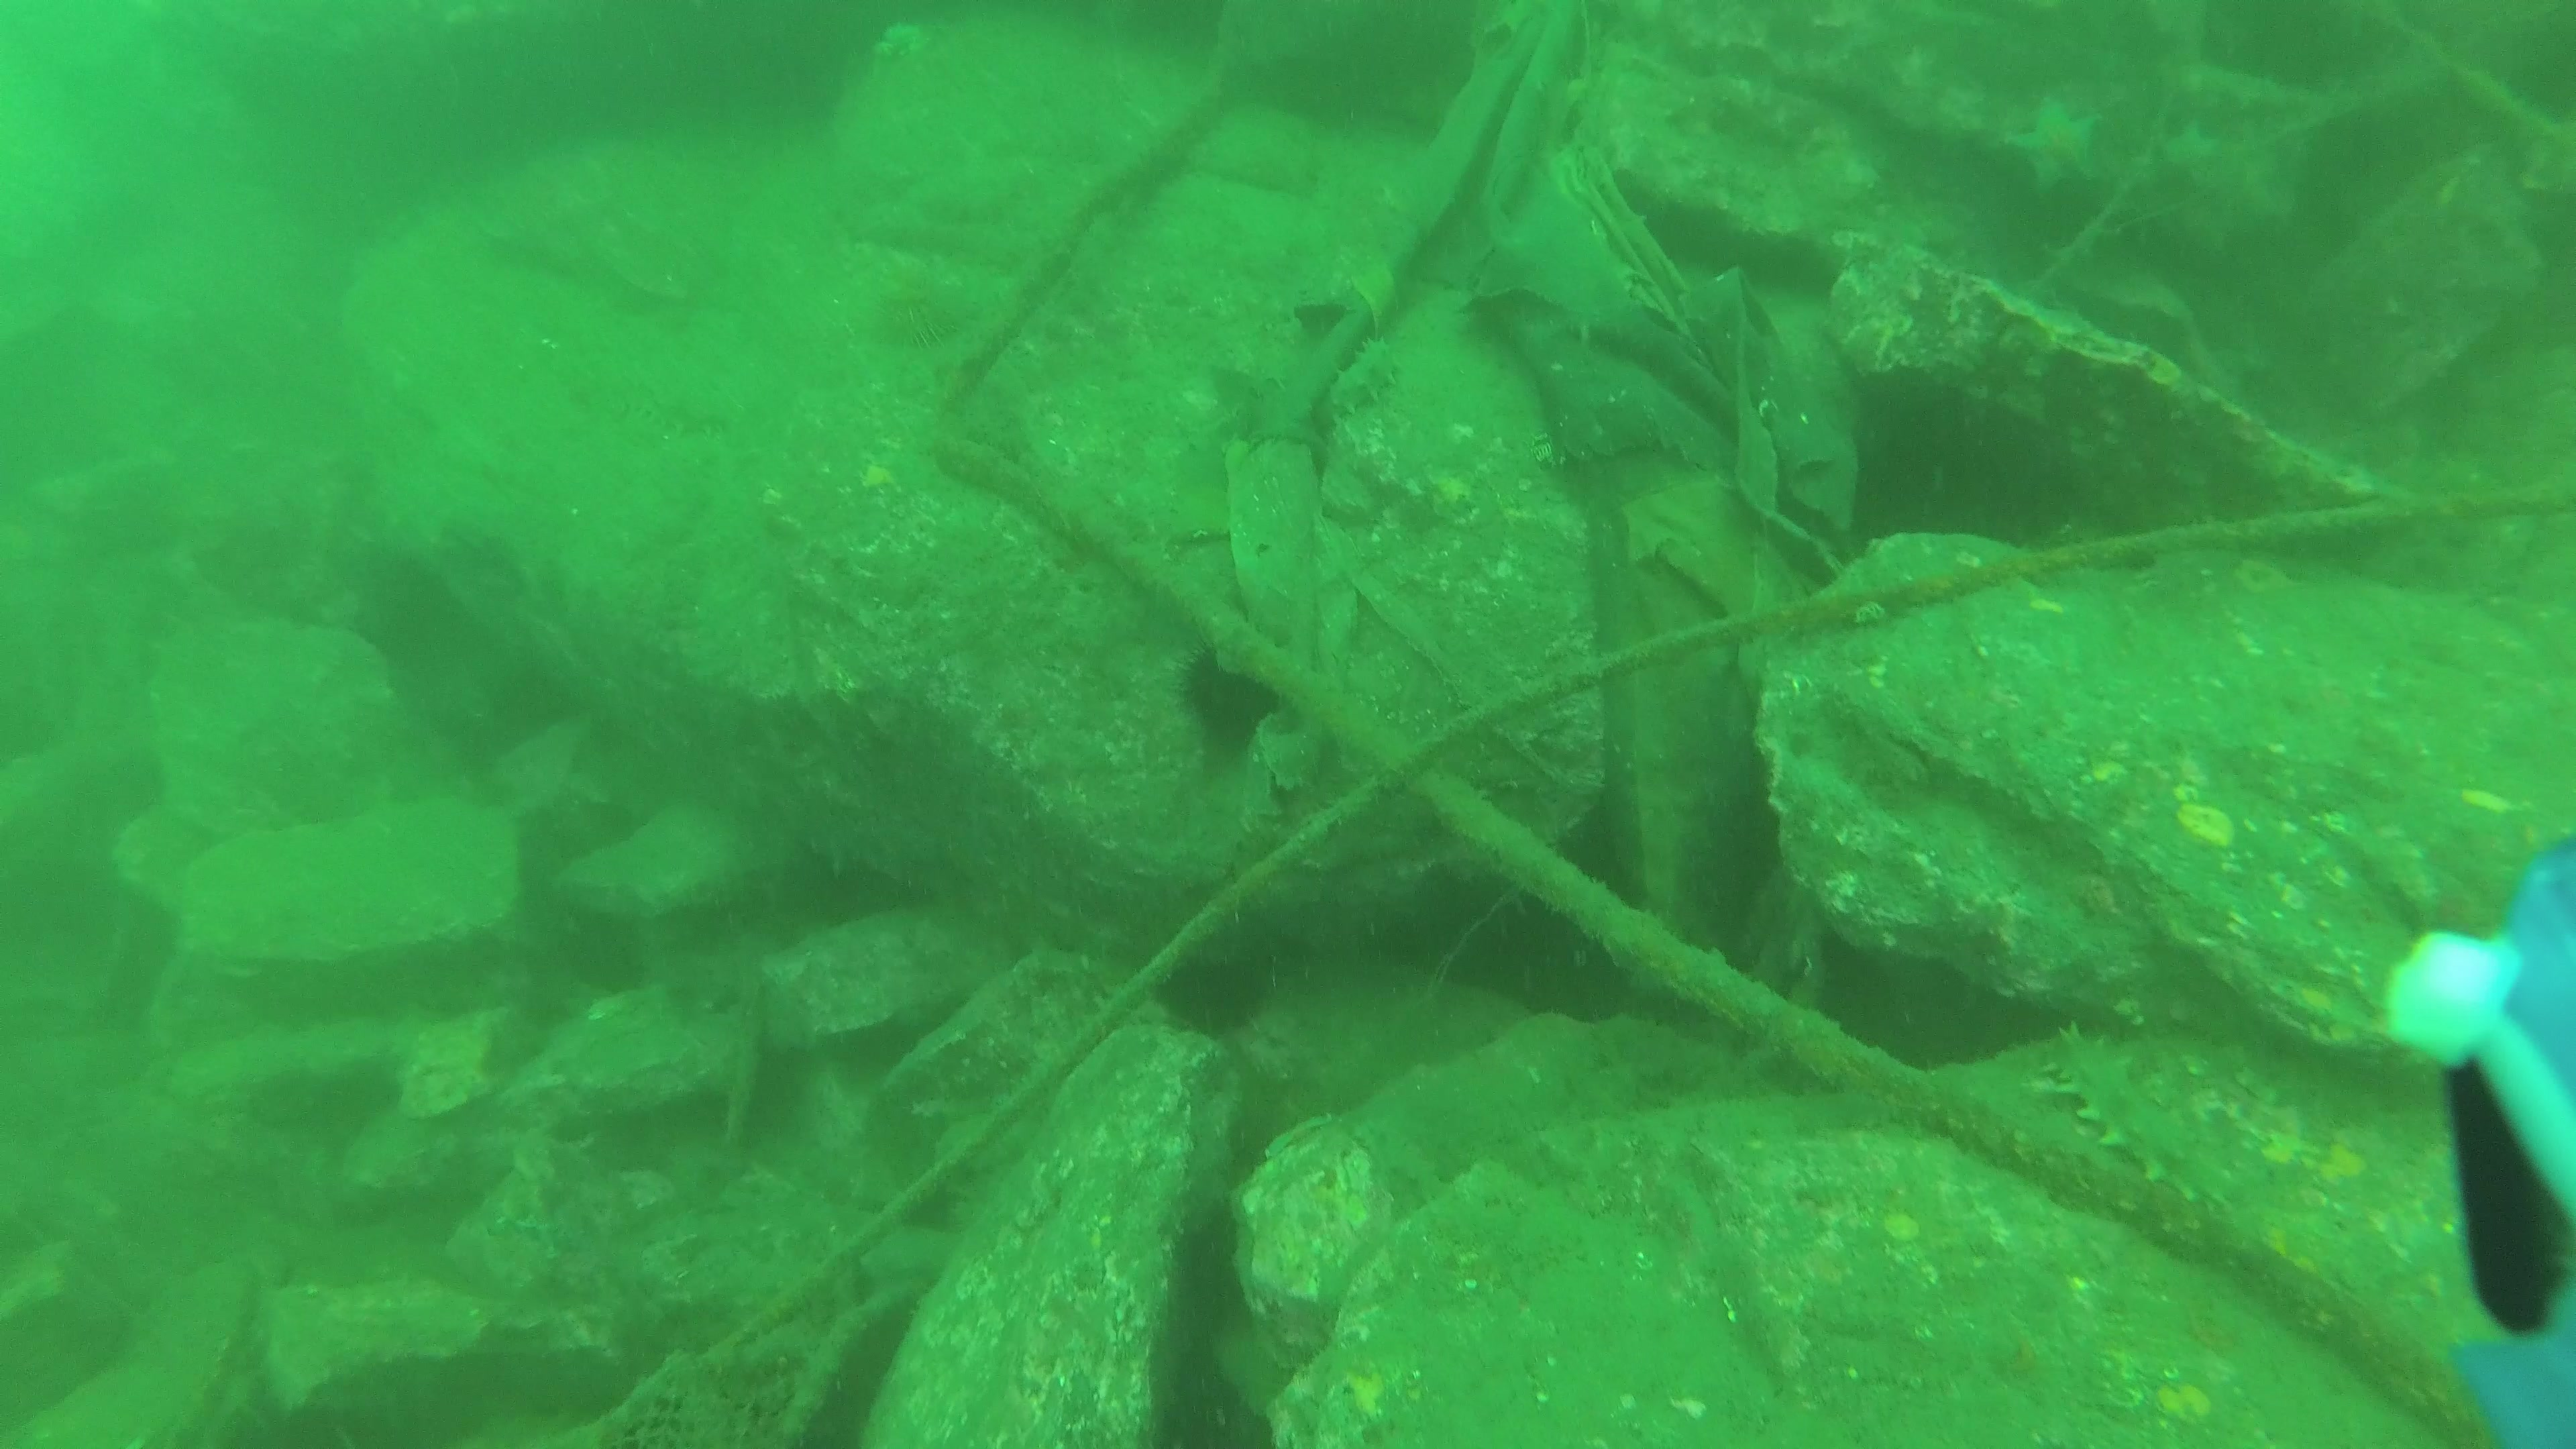echinus: (1166, 633, 1292, 754)
holothurian: (2036, 1019, 2243, 1224), (1306, 326, 1407, 435)
starfish: (1999, 85, 2112, 205)
